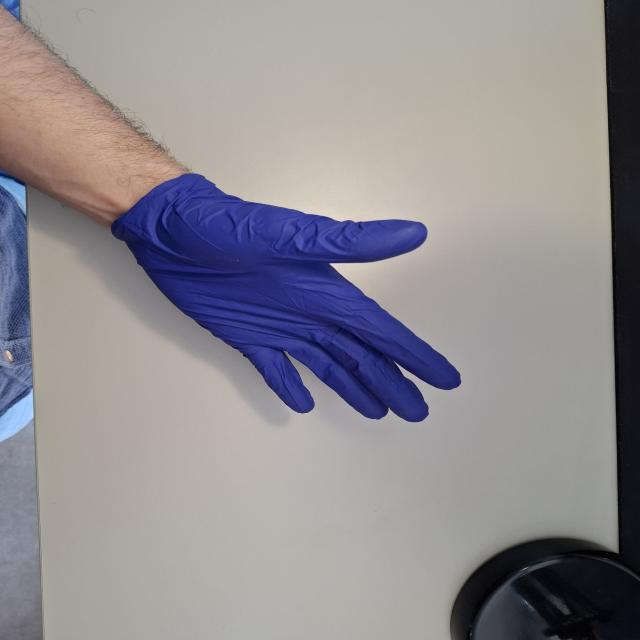glove_on: (108, 166, 465, 428)
